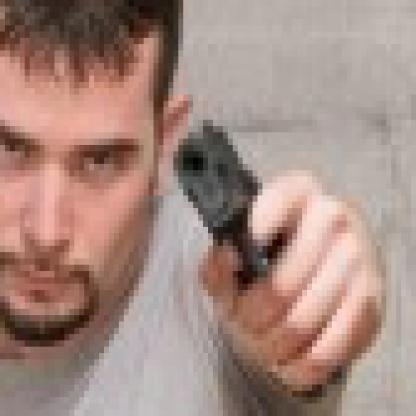gun: (164, 113, 288, 278)
